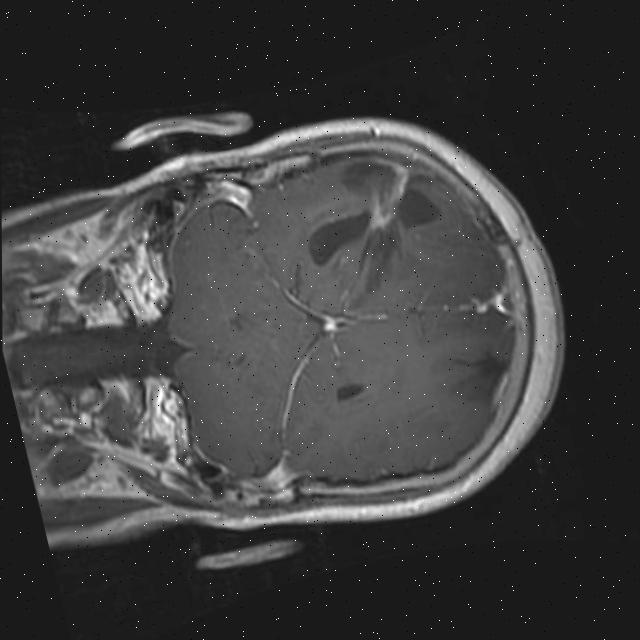Glioma: (348, 144, 425, 238)
